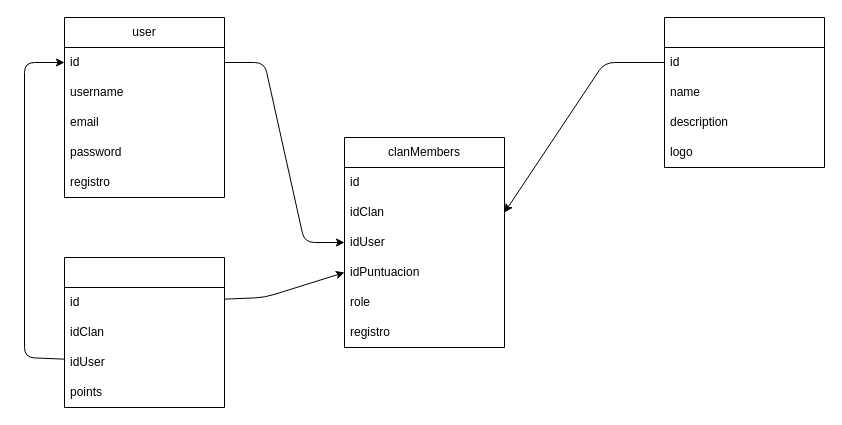
The diagram is 842 pixels wide and 425 high, and some of its shapes have lost their labels. The box of each missing label's shape, as (x1, y1, x2, y2) in pixels:
clans: (664, 16, 824, 168)
puntuaion: (64, 256, 224, 408)
